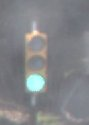Green: (18, 25, 52, 107)
